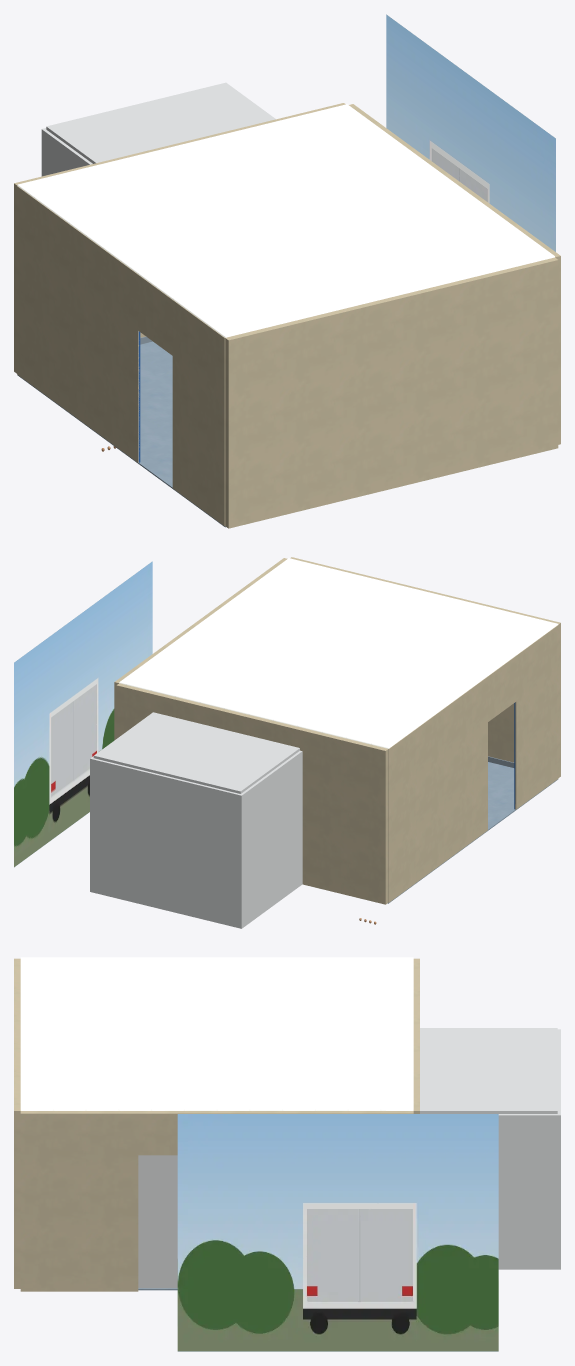
File: reception-eD7ToeJc.glb
3 views of the same model, one above another, from view 1: azimuth 30°, elevation 25°; view 2: azimuth 150°, elevation 25°; view 3: azimuth 270°, elevation 25° (orthographic). The views are drawn at different scales.
Parts seen in each view (by area): view 1: RCP_shell, RCP_outdoor, RCP_store; view 2: RCP_shell, RCP_store, RCP_outdoor; view 3: RCP_shell, RCP_outdoor, RCP_store, RCP_delivery_door.
Boxes of the visible parts, left/top/right/bottom form: RCP_shell: left=14, top=103, right=560, bottom=528; RCP_outdoor: left=386, top=14, right=555, bottom=251; RCP_store: left=41, top=82, right=275, bottom=176; RCP_shell: left=114, top=557, right=560, bottom=904; RCP_store: left=90, top=712, right=302, bottom=928; RCP_outdoor: left=14, top=561, right=152, bottom=867; RCP_shell: left=14, top=957, right=419, bottom=1291; RCP_outdoor: left=177, top=1114, right=498, bottom=1351; RCP_store: left=420, top=1028, right=560, bottom=1269; RCP_delivery_door: left=138, top=1155, right=177, bottom=1288.
Size of the model in its own units: 6.91 by 4.63 by 8.35.
Materials: 36 (11 with a texture image).
